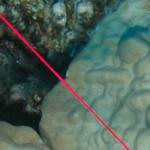alive: (6, 6, 148, 148)
